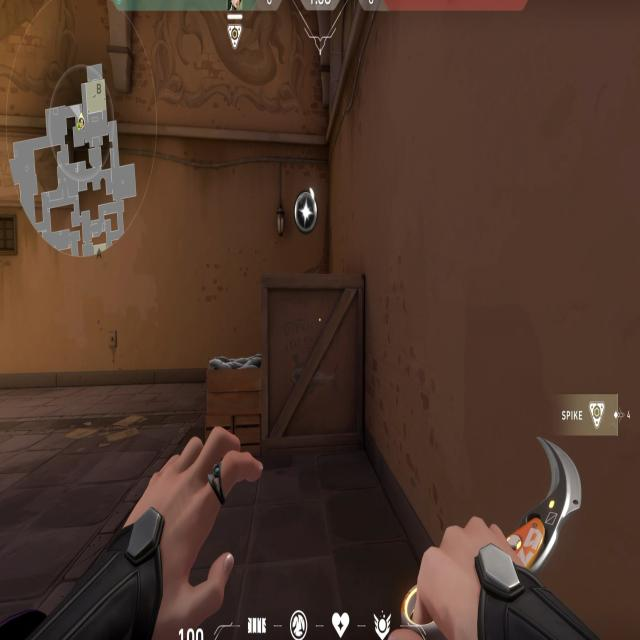B_Main_Wallbang: (210, 187, 384, 454)
